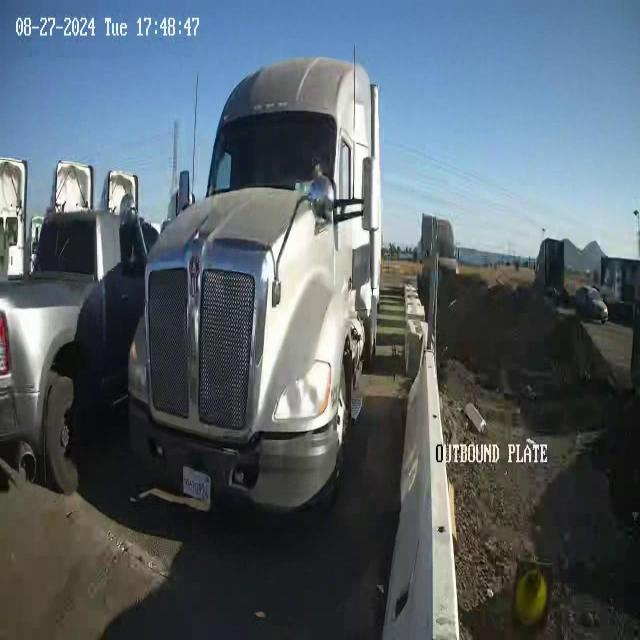TRUCK_IN: (126, 45, 384, 517)
